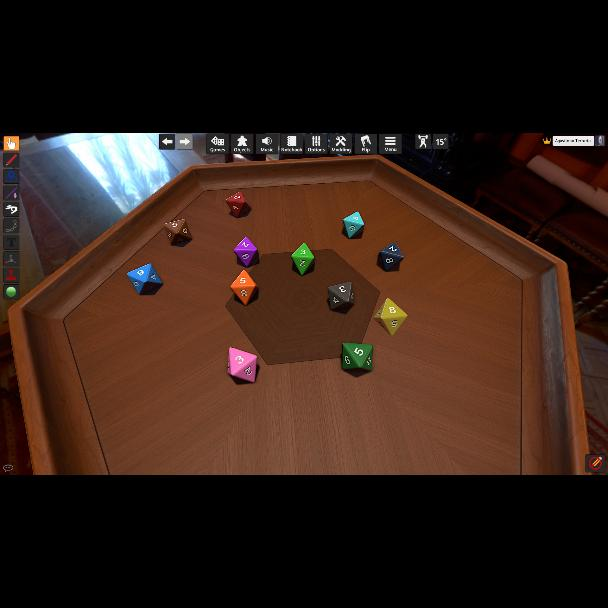d8: (374, 298, 408, 334), (226, 346, 258, 382), (128, 263, 162, 295), (231, 270, 259, 306), (342, 343, 372, 371), (234, 236, 258, 268), (163, 220, 191, 247), (225, 190, 251, 218), (378, 242, 402, 272), (326, 282, 350, 310), (292, 244, 314, 274), (342, 212, 364, 239)
